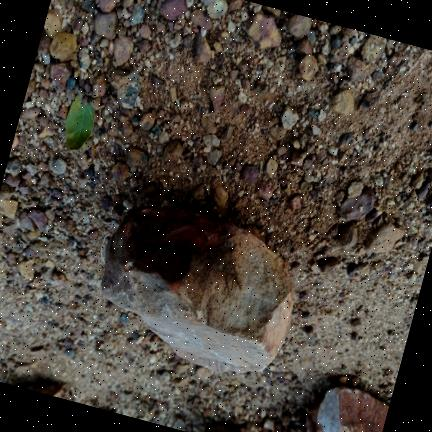Rocks: (102, 207, 292, 372), (306, 386, 388, 431), (245, 11, 281, 47), (337, 186, 374, 219), (364, 221, 403, 252), (110, 69, 140, 107), (49, 31, 76, 60), (93, 10, 117, 38), (360, 35, 385, 61), (50, 61, 72, 90), (20, 382, 62, 397), (335, 220, 357, 248), (286, 13, 311, 37), (113, 35, 133, 65), (331, 88, 353, 114), (159, 0, 187, 19), (44, 8, 62, 37), (346, 55, 365, 82), (193, 32, 210, 62), (189, 7, 211, 29), (298, 54, 317, 79), (27, 206, 46, 230), (280, 105, 298, 129), (126, 146, 147, 166), (358, 90, 379, 110), (204, 0, 227, 18), (208, 84, 224, 109), (163, 139, 182, 160), (317, 256, 339, 273), (204, 423, 250, 431), (0, 198, 18, 218), (240, 164, 258, 184), (111, 160, 128, 181), (91, 74, 106, 97), (17, 259, 34, 279), (212, 185, 227, 207), (48, 157, 66, 174), (130, 3, 144, 24), (256, 181, 272, 199), (77, 46, 90, 68), (139, 182, 158, 197), (263, 156, 277, 176), (5, 156, 20, 174), (139, 111, 154, 129), (37, 34, 51, 53), (291, 148, 306, 165), (347, 180, 362, 197), (206, 147, 221, 164), (416, 180, 429, 199), (297, 37, 311, 54), (21, 106, 40, 118), (287, 193, 301, 209), (0, 182, 14, 198), (194, 365, 210, 379), (192, 182, 205, 199), (202, 133, 219, 146), (410, 170, 423, 187), (51, 270, 66, 284), (4, 173, 20, 186), (98, 0, 116, 11), (228, 0, 242, 10), (121, 0, 133, 6), (0, 230, 4, 239), (429, 148, 431, 157), (430, 199, 431, 209)
